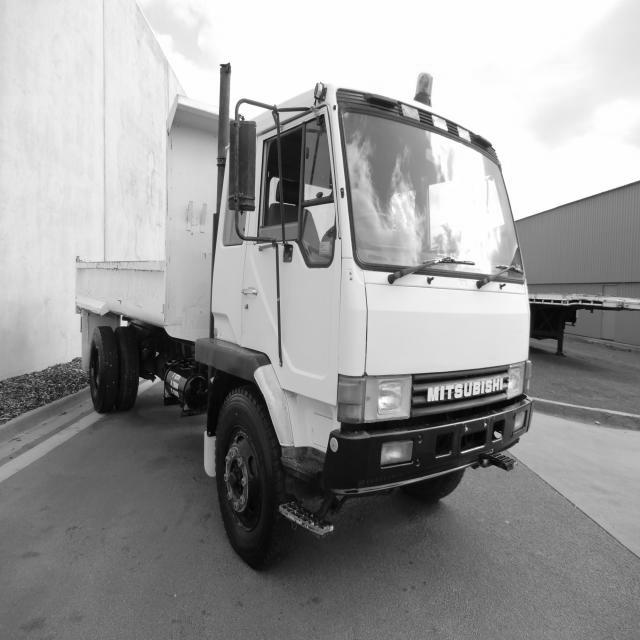truck: (187, 60, 554, 531)
